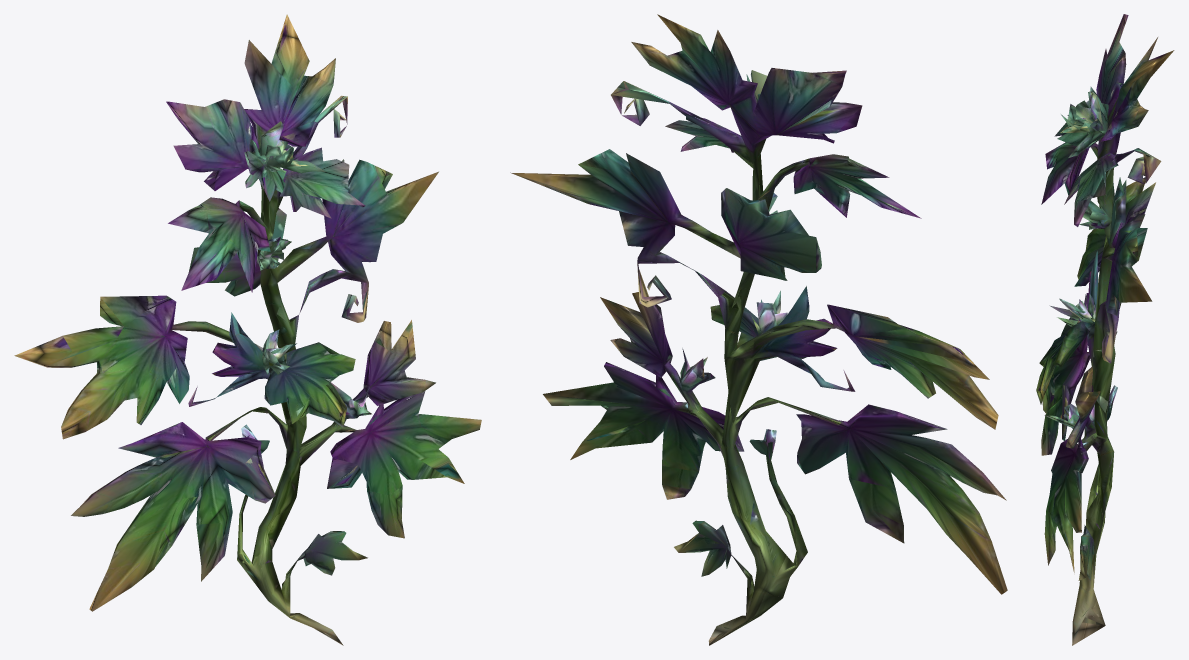
File: plant_starlit.glb
3 views of the same model, side by side, from view 1: azimuth 30°, elevation 25°; view 2: azimuth 150°, elevation 25°; view 3: azimuth 270°, elevation 25° (orthographic). The views are drawn at different scales.
Visible parts, largest first — view 1: Mesh; view 2: Mesh; view 3: Mesh.
Part boxes in pixels (x1,y1,x2,y2): Mesh: [14, 14, 481, 645]; Mesh: [510, 14, 1007, 645]; Mesh: [1036, 14, 1174, 645].
Bounding box in the file's own units: 0.4469 × 0.588 × 0.1245.
1 material, 1 textured.
